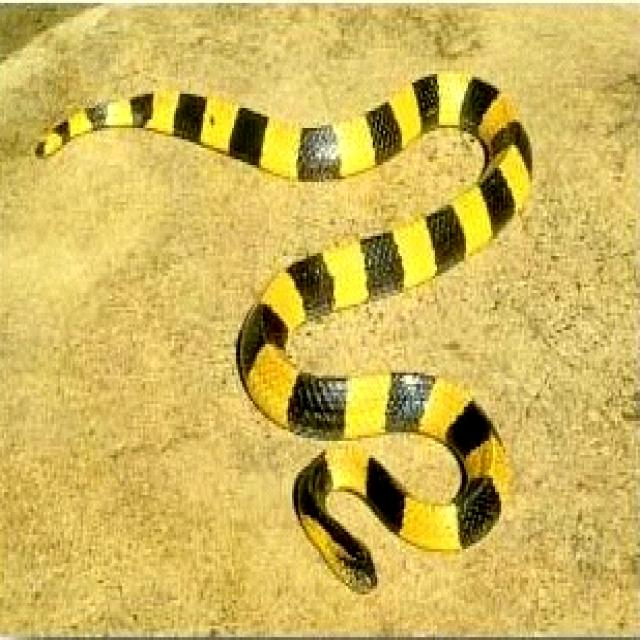Bungarus fasciatus: (38, 74, 532, 591)
